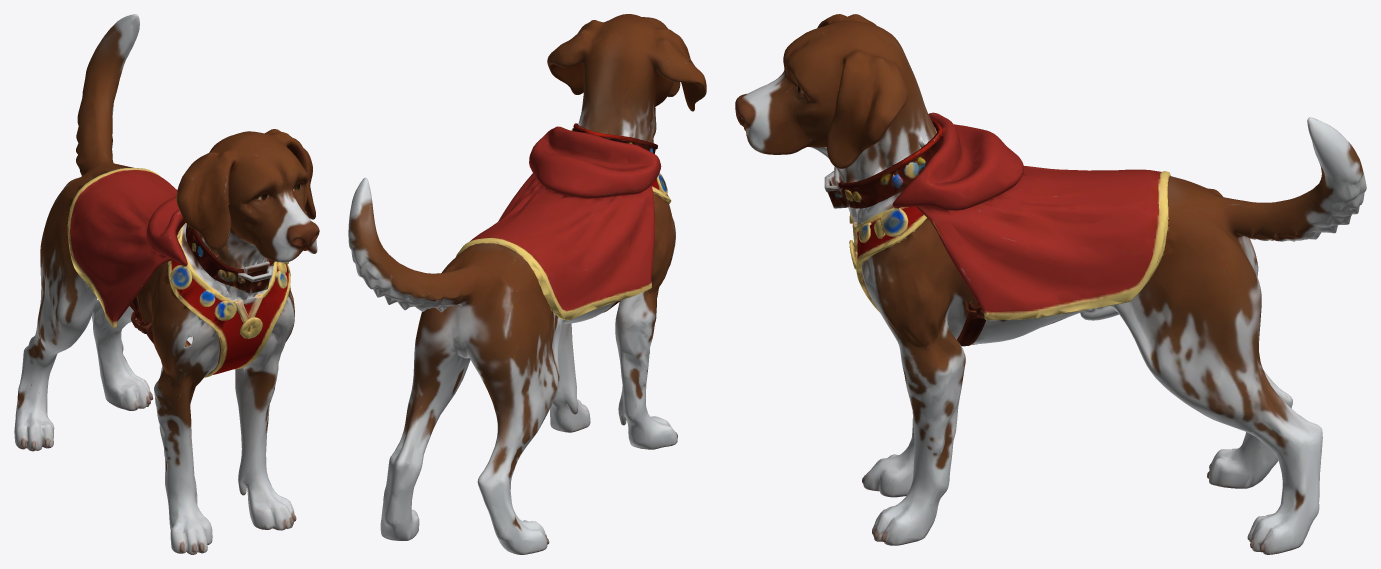
Rendered from detail_10.glb.
3 renders of one model, left to right at view 1: azimuth 30°, elevation 25°; view 2: azimuth 150°, elevation 25°; view 3: azimuth 270°, elevation 25°, orthographic. The views are drawn at different scales.
Bounding box in the file's own units: 0.3579 × 0.85 × 0.9985.
Materials: 1 (1 with a texture image).
